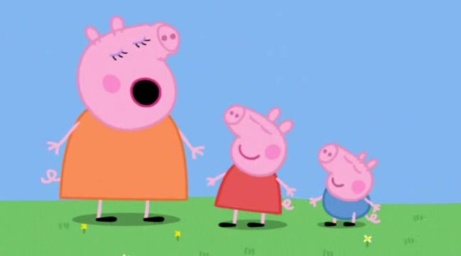Peppa: (204, 102, 301, 233)
